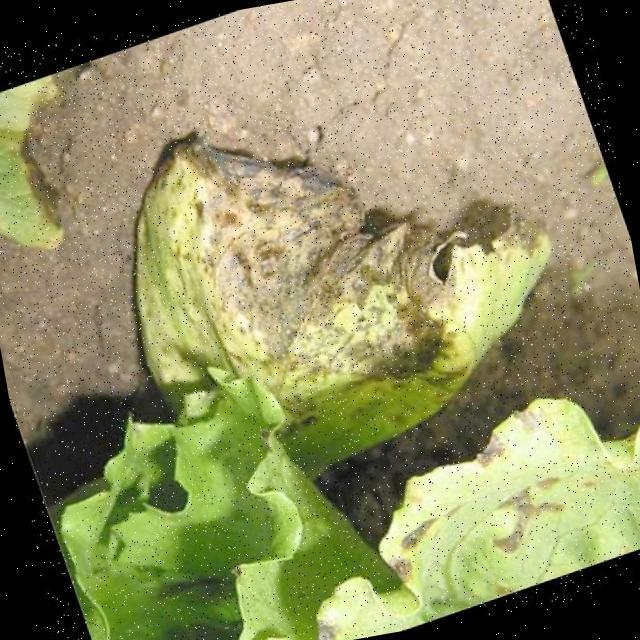Septoria_Blight: (180, 160, 448, 452), (343, 371, 640, 628)
